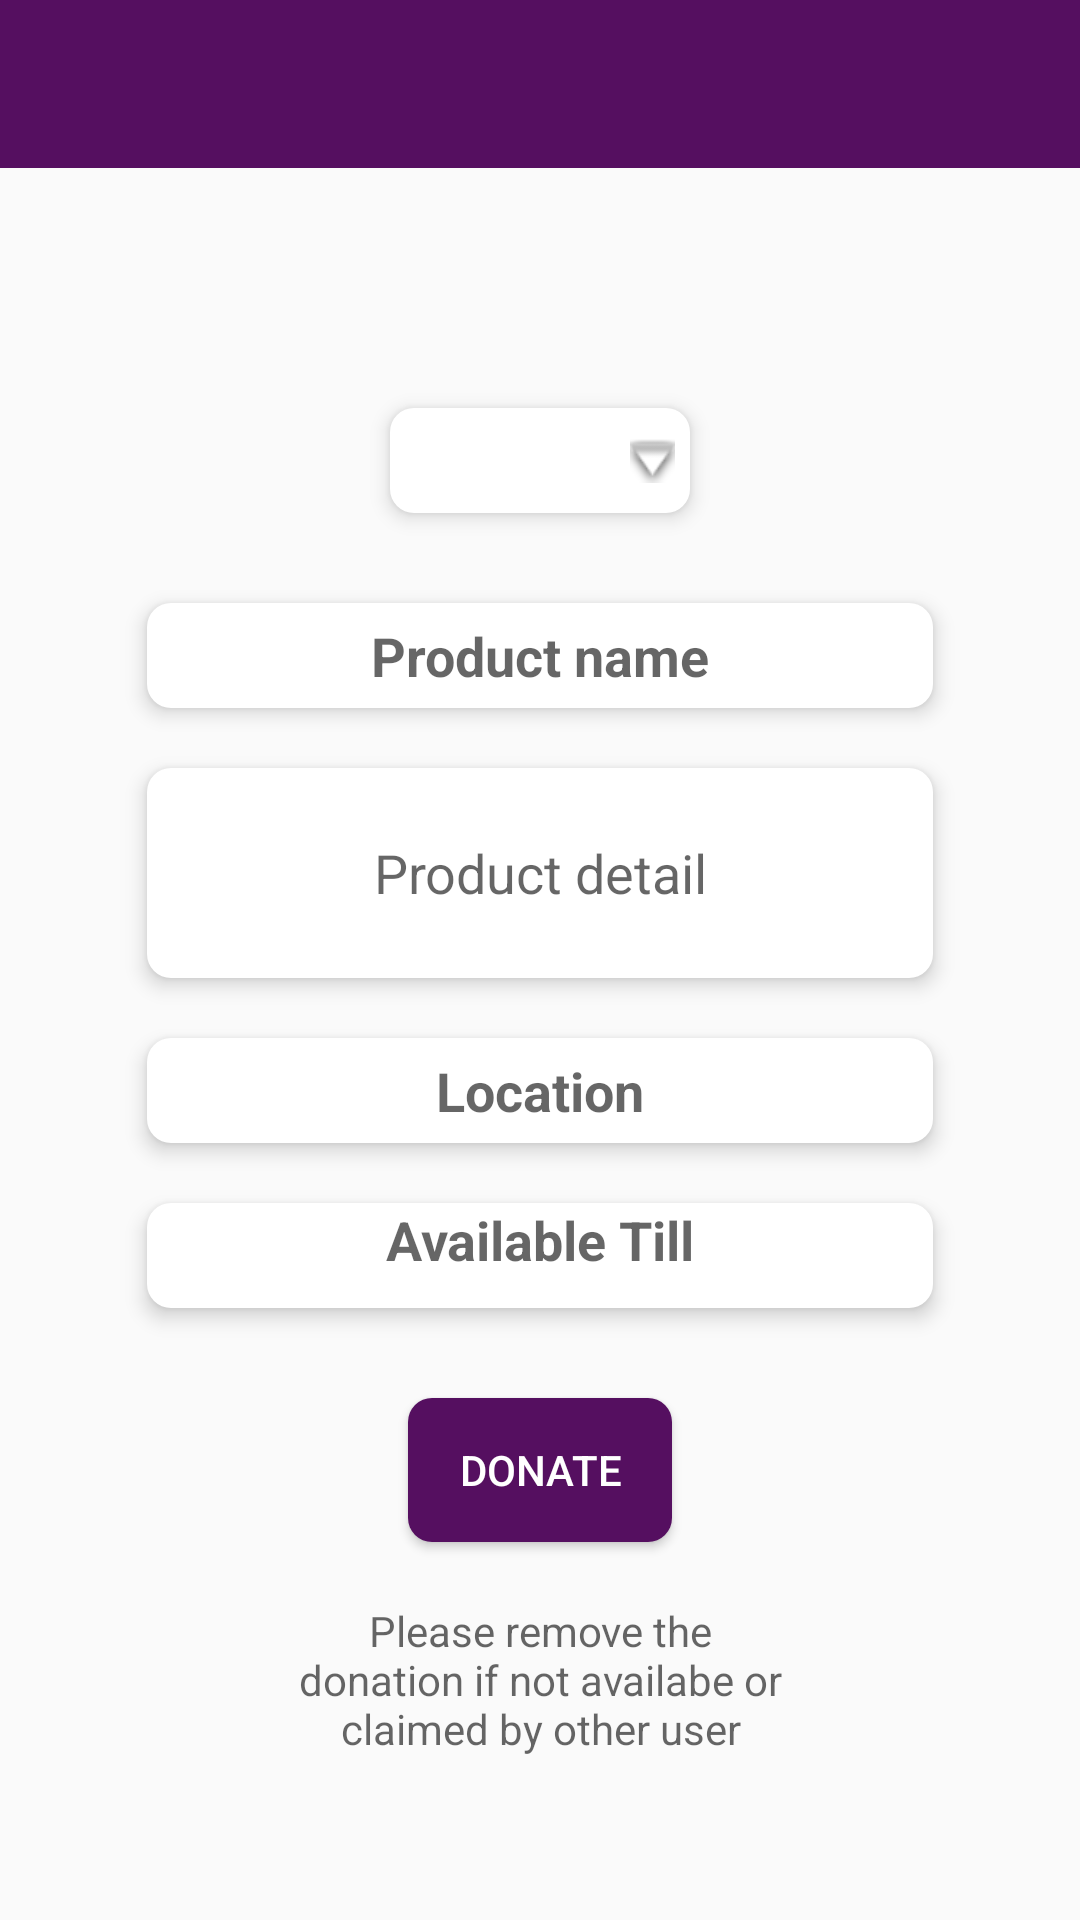

Where to tap for icons on this 1080*1920 app screen, as point (x, y):
arrow down float: point (652, 461)
